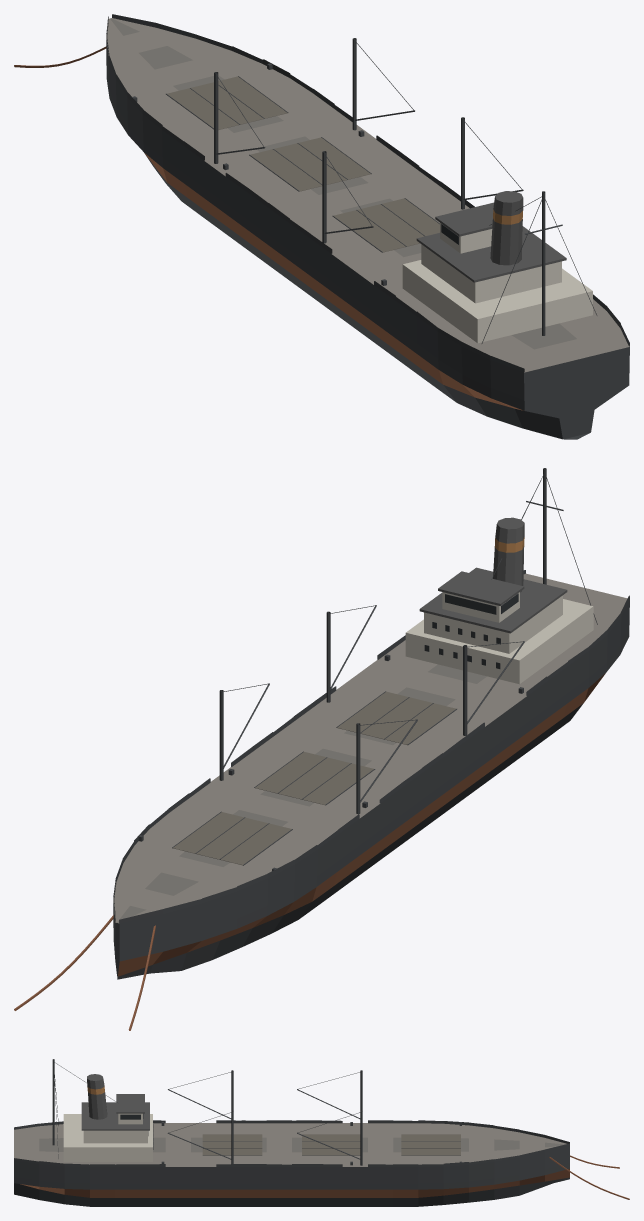
The model's file is boat.glb.
3 views of the same model, one above another, from view 1: azimuth 30°, elevation 25°; view 2: azimuth 150°, elevation 25°; view 3: azimuth 270°, elevation 25° (orthographic). The views are drawn at different scales.
Parts seen in each view (by area): view 1: hull, house, rigging; view 2: hull, house, rigging; view 3: hull, house, rigging.
Boxes of the visible parts, x1,y1,x2,y2 form: hull: (106, 14, 629, 439); house: (402, 191, 592, 343); rigging: (14, 38, 597, 343); hull: (113, 570, 629, 979); house: (405, 517, 593, 684); rigging: (14, 468, 597, 1030); hull: (14, 1120, 569, 1206); house: (63, 1074, 153, 1161); rigging: (52, 1059, 629, 1199).
Size of the model in its own units: 21 by 29.6 by 124.
